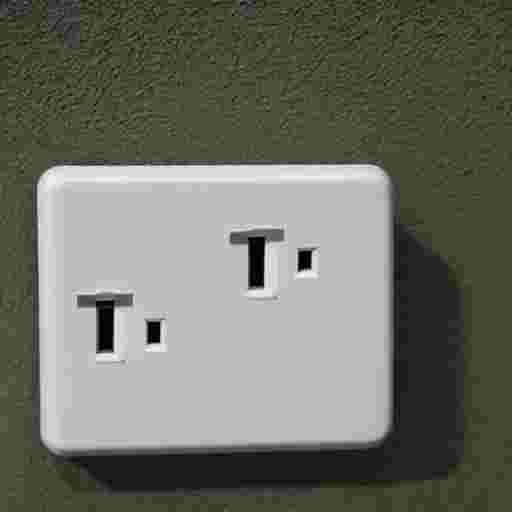power outlet: (35, 163, 407, 478), (35, 163, 395, 454)
